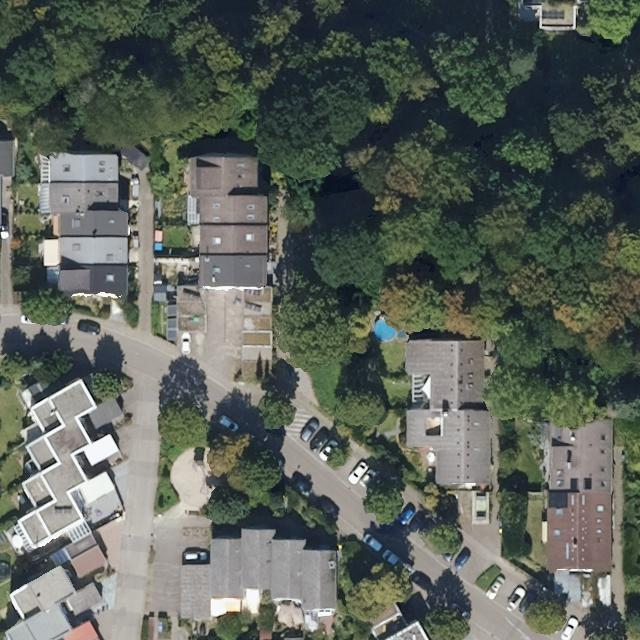PV: (546, 489, 570, 510)
